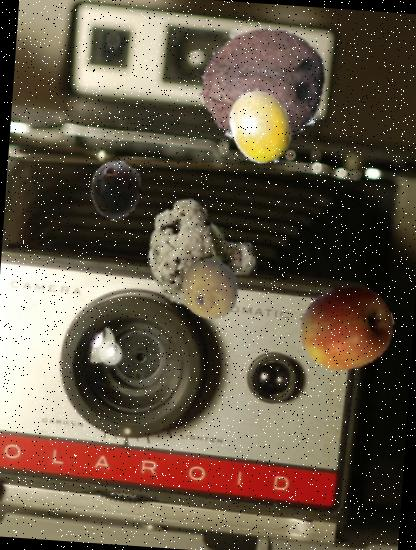Apple: (296, 277, 396, 378)
Cauliflower: (140, 190, 264, 314)
Cocos: (192, 14, 335, 157)
Lemon: (178, 256, 243, 321)
Maracuja: (220, 87, 302, 169)
Plum: (82, 158, 146, 222)
